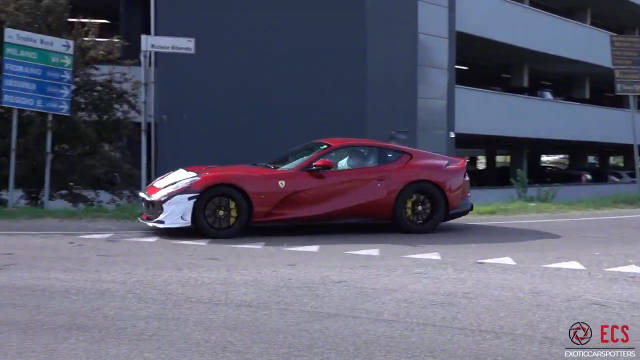other: (133, 137, 475, 238)
